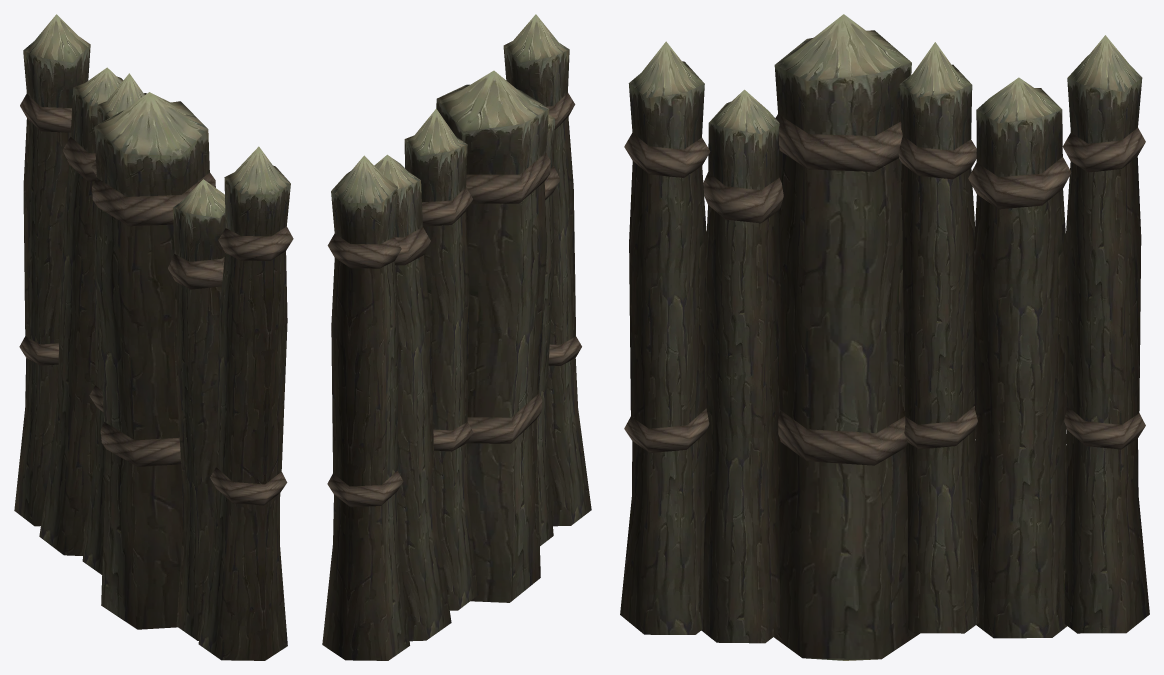
The picture shows the model from 3 angles, left to right: view 1: azimuth 30°, elevation 25°; view 2: azimuth 150°, elevation 25°; view 3: azimuth 270°, elevation 25°; orthographic projection. The views are drawn at different scales.
Size of the model in its own units: 1.41 by 5.78 by 4.39.
1 material, 1 textured.
